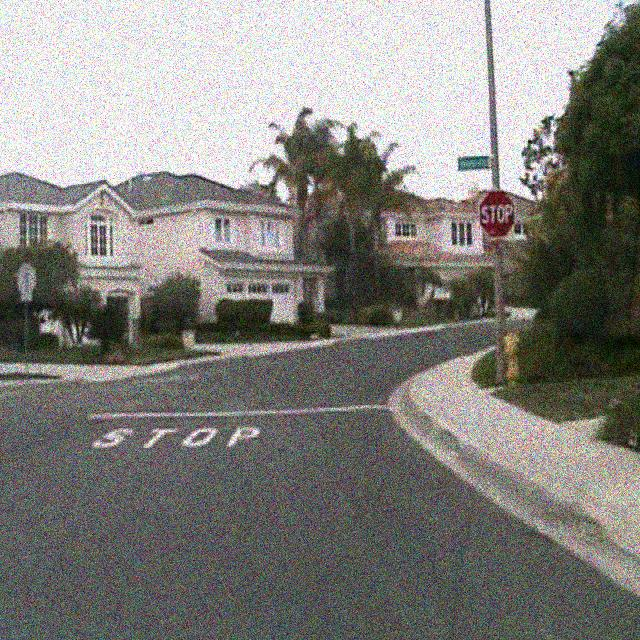stop_sign: (478, 188, 516, 239)
